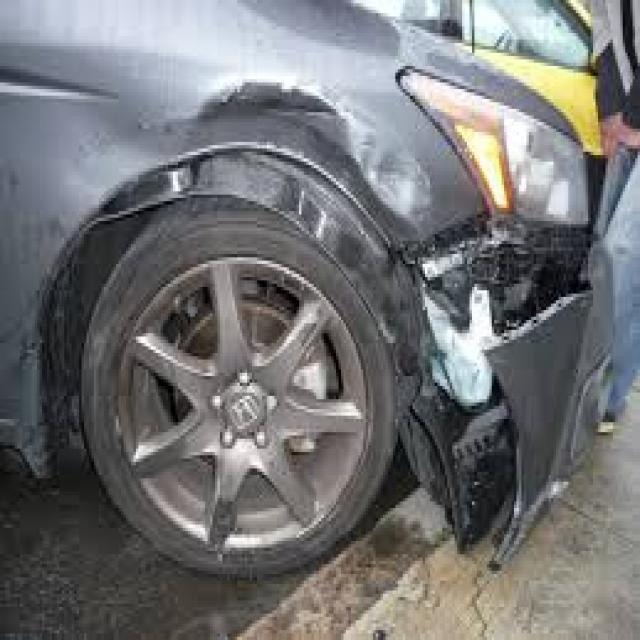moderate: (173, 112, 630, 502)
